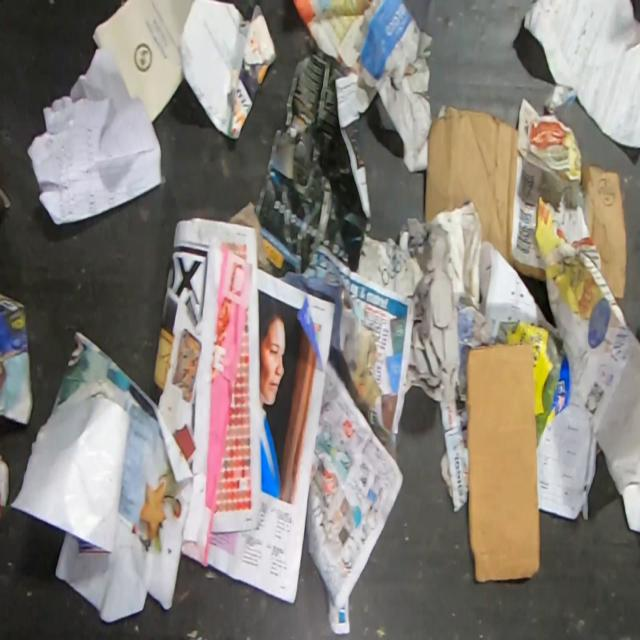cardboard: (424, 101, 628, 300), (465, 340, 541, 582)
